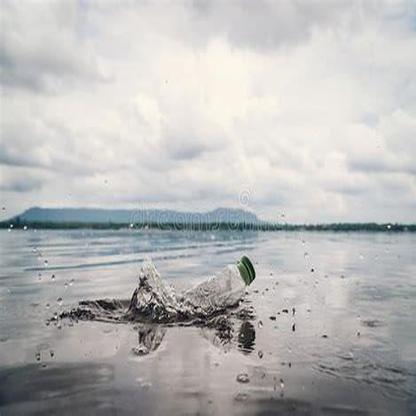plastic bottle: (138, 254, 256, 317)
